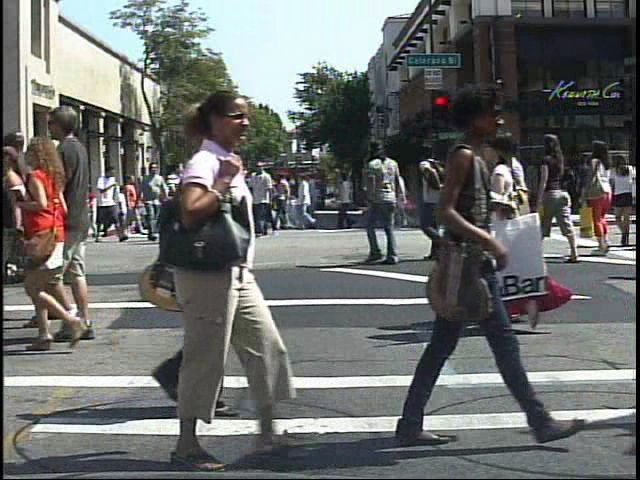person: (364, 78, 552, 461), (127, 82, 299, 476), (452, 127, 566, 347), (38, 100, 115, 348), (21, 126, 103, 351), (358, 134, 416, 274), (506, 129, 541, 344), (409, 138, 466, 269), (536, 126, 580, 261), (581, 136, 622, 261), (210, 148, 245, 250), (145, 159, 176, 245), (163, 158, 194, 242), (98, 162, 129, 245), (615, 146, 639, 232), (387, 163, 414, 236), (71, 180, 97, 244), (80, 183, 101, 227)
